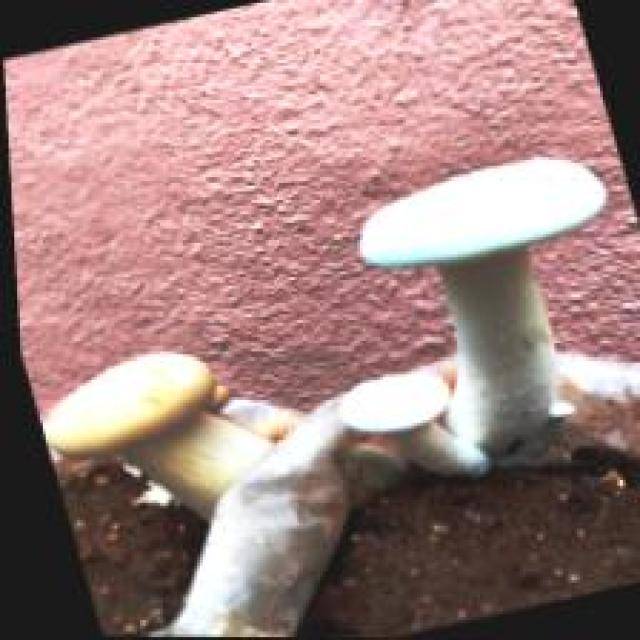field-mushroom: (360, 151, 611, 463)
